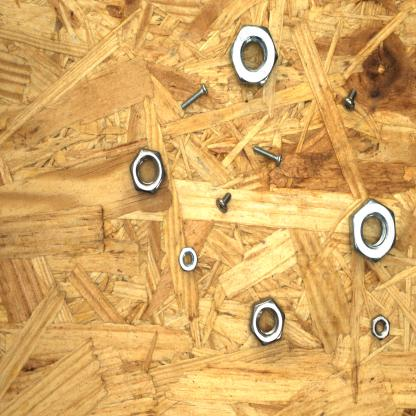screw: (176, 80, 212, 113), (249, 140, 286, 170), (213, 187, 235, 216), (340, 85, 360, 113)
